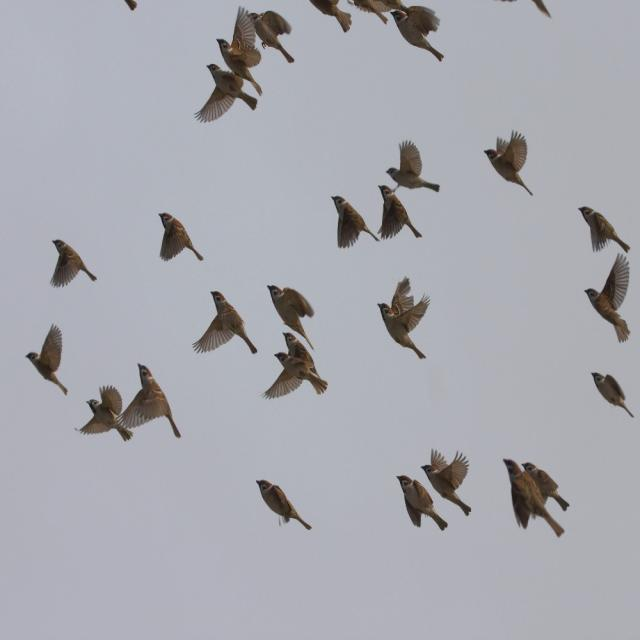bird: (503, 458, 572, 539), (208, 8, 290, 76), (130, 345, 180, 448), (376, 278, 433, 362), (586, 249, 638, 340), (266, 329, 328, 405), (76, 370, 131, 450), (198, 60, 264, 126), (420, 448, 476, 522), (196, 290, 260, 354), (484, 129, 533, 200), (26, 325, 70, 399), (392, 4, 446, 64), (386, 140, 445, 192), (399, 476, 453, 532), (257, 482, 316, 530), (331, 196, 378, 253), (379, 188, 425, 243), (266, 287, 316, 337), (581, 210, 632, 258), (160, 214, 207, 262), (51, 240, 98, 288), (593, 373, 636, 420), (304, 0, 353, 35)
